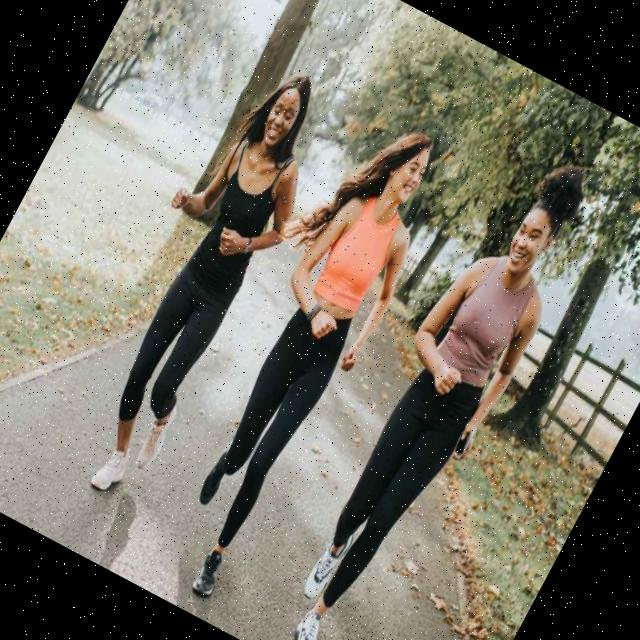Person: (252, 138, 612, 640), (116, 99, 466, 610)
